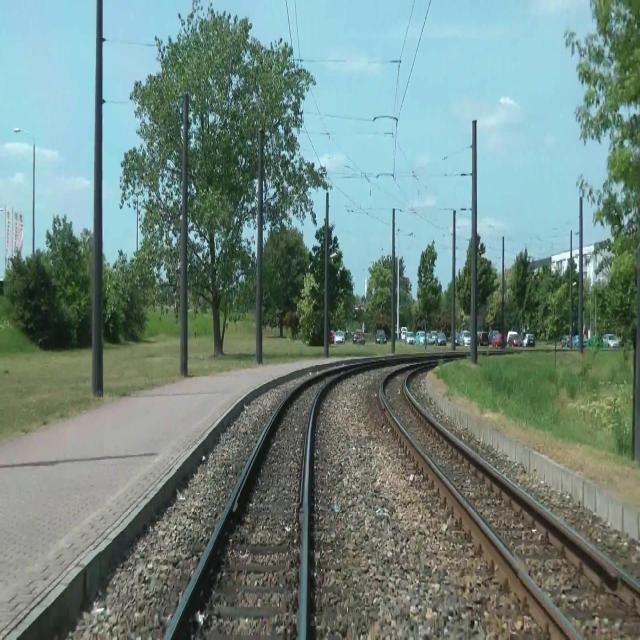rail-track: (383, 368, 640, 639), (170, 373, 332, 639)
